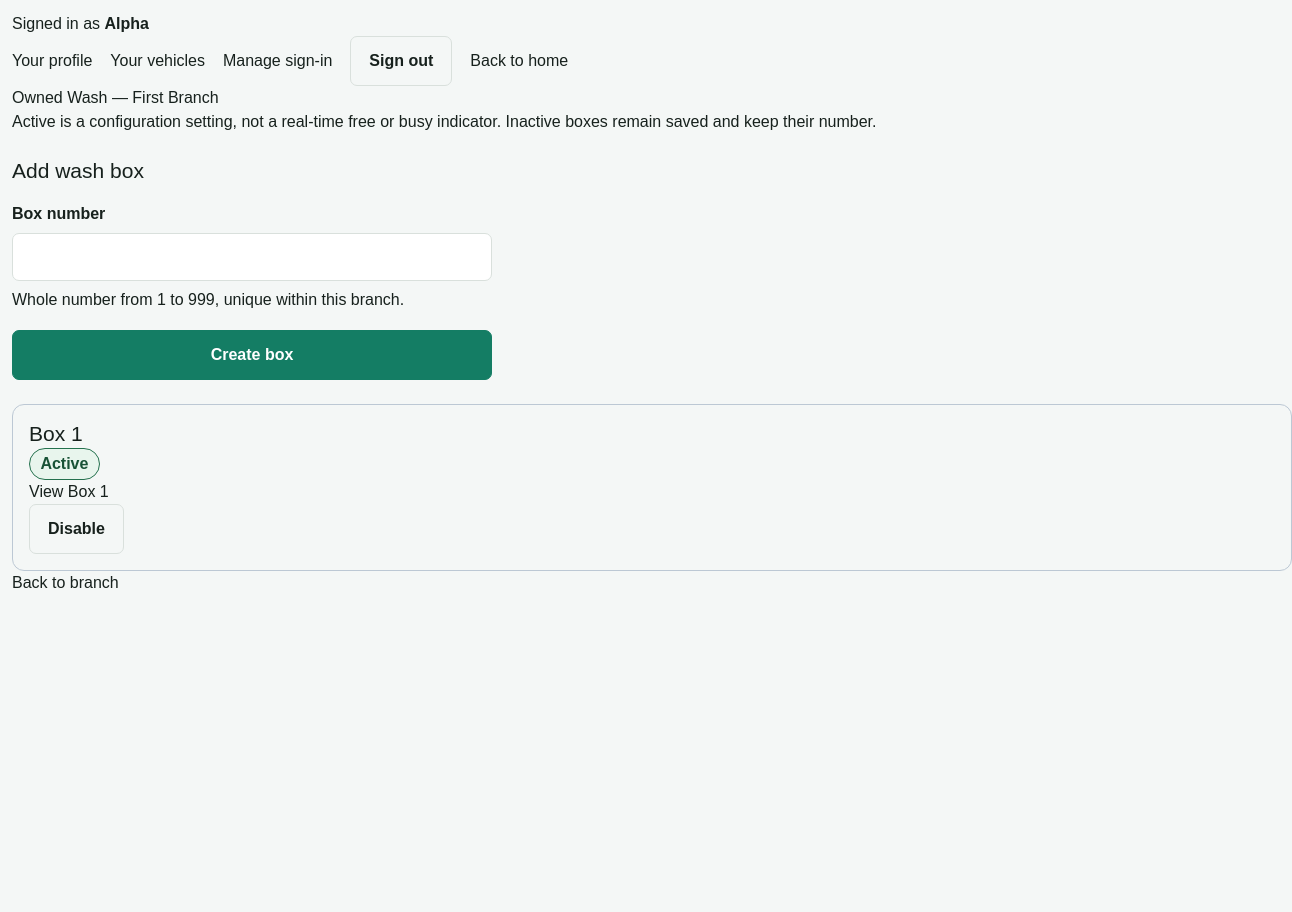
Test case: wash box protected UI, confirmations and scoped cache › sanitizes WASH_BOX_ALREADY_EXISTS without false success
Type "1" into the number field labelled "Box number" at (252, 257), box [12, 233, 492, 281]
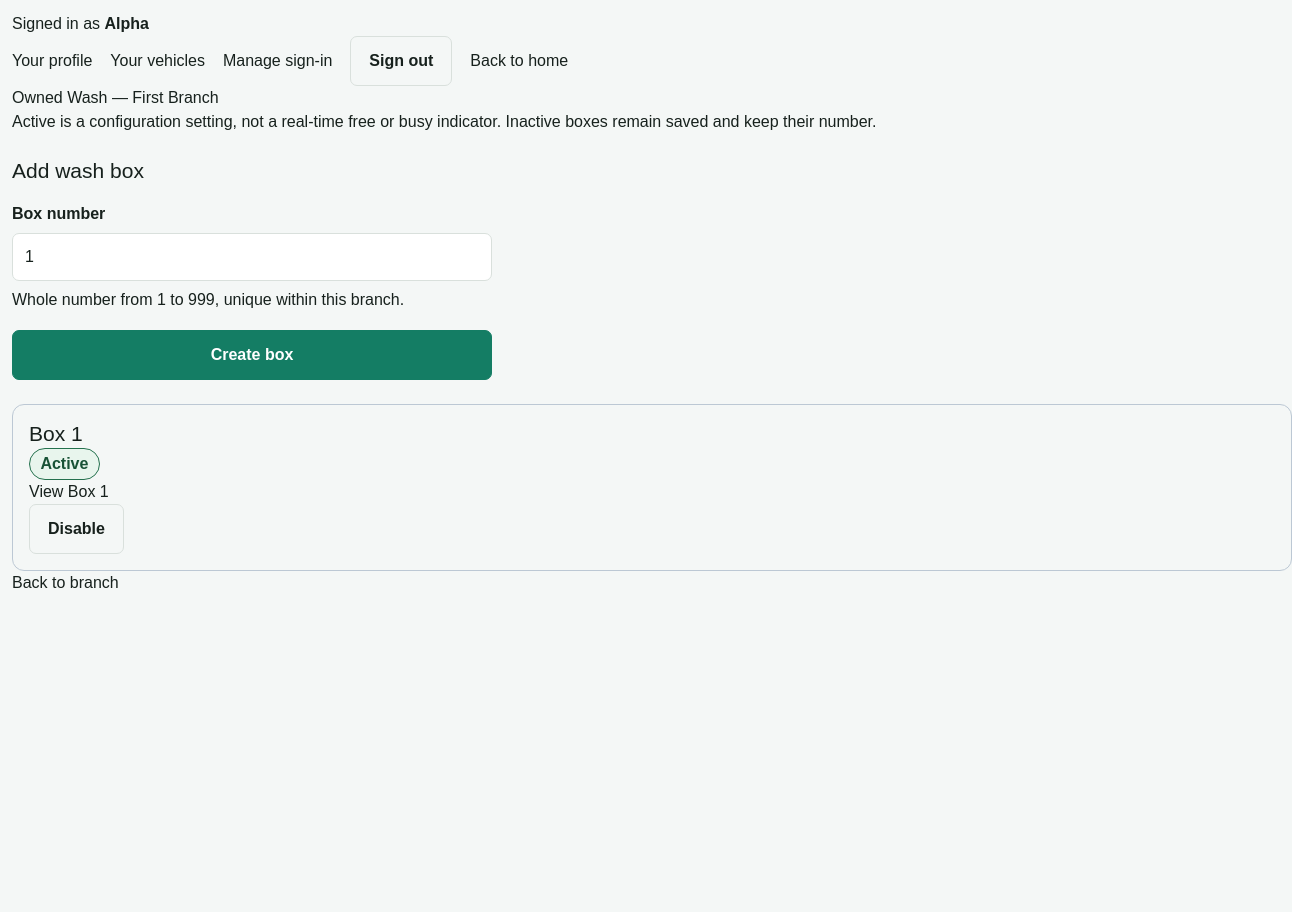
Click the button "Create box" at (252, 355), box [12, 330, 492, 380]
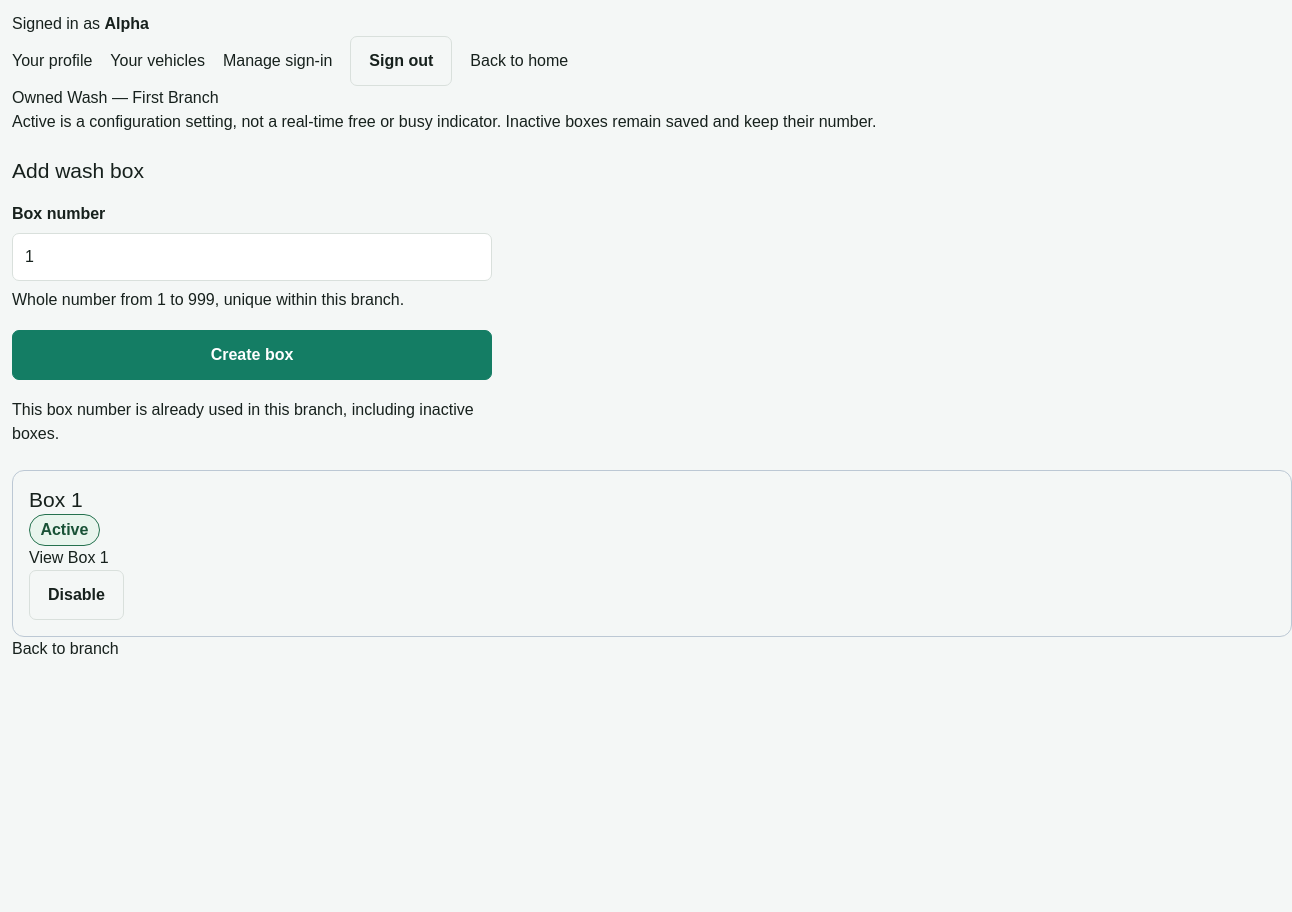
Now the message "This box number is already used in this branch, including inactive boxes." is shown, box [12, 398, 492, 446]
